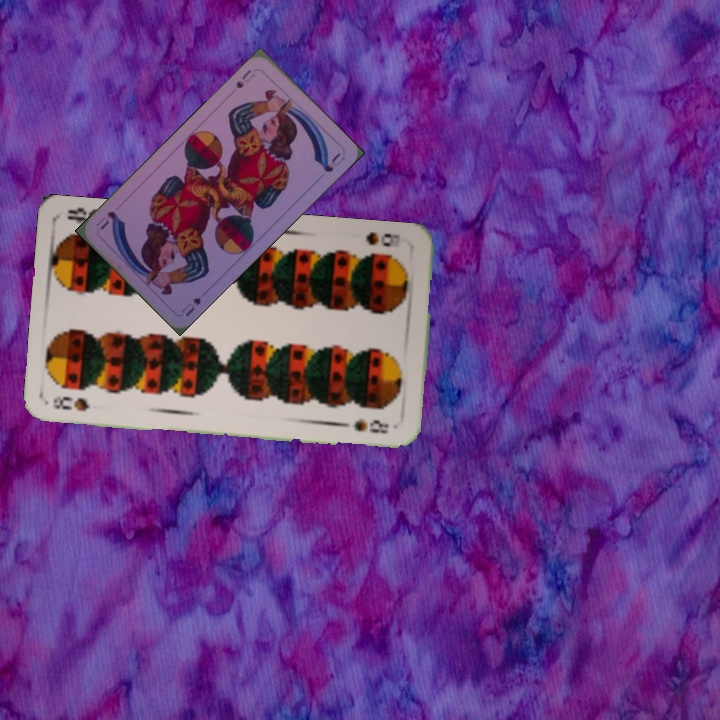S8: (49, 391, 93, 414), (361, 227, 403, 250)
SU: (177, 293, 203, 319), (232, 65, 258, 91)
